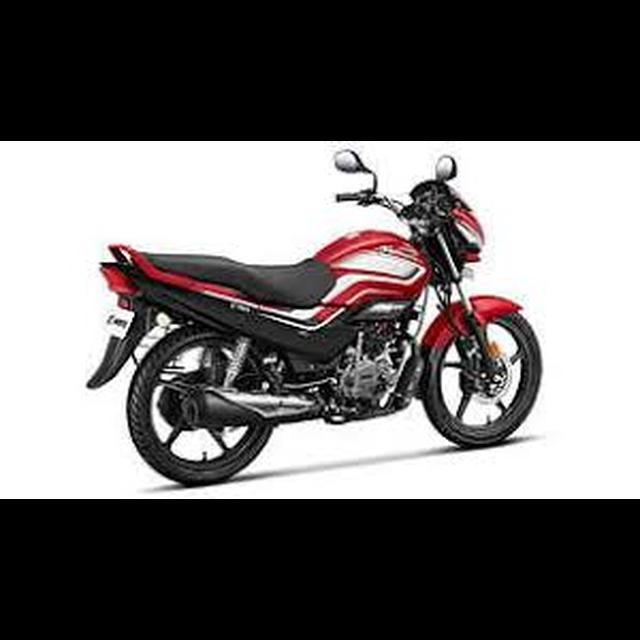motorcycle: (83, 143, 545, 489)
